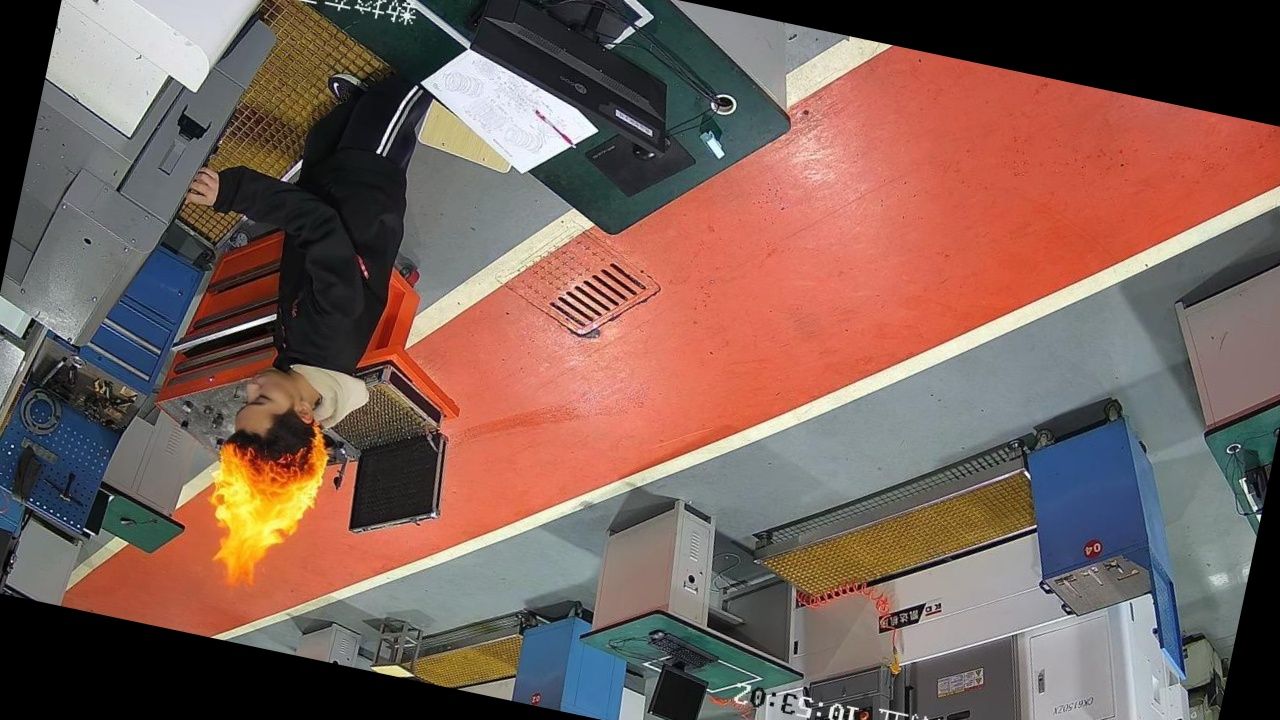fire: (162, 386, 354, 625)
